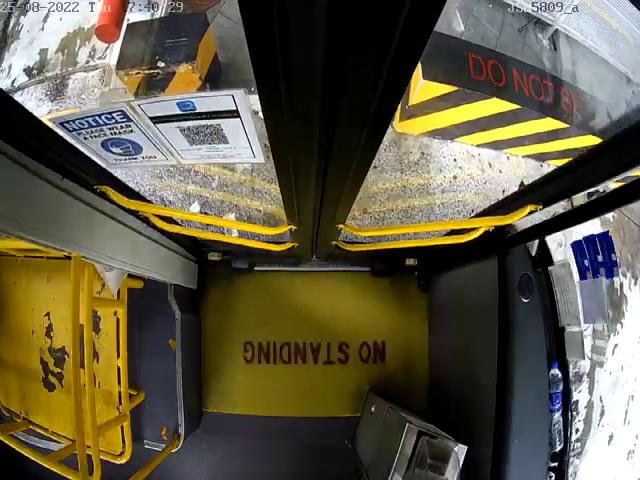close: (0, 0, 640, 134)
